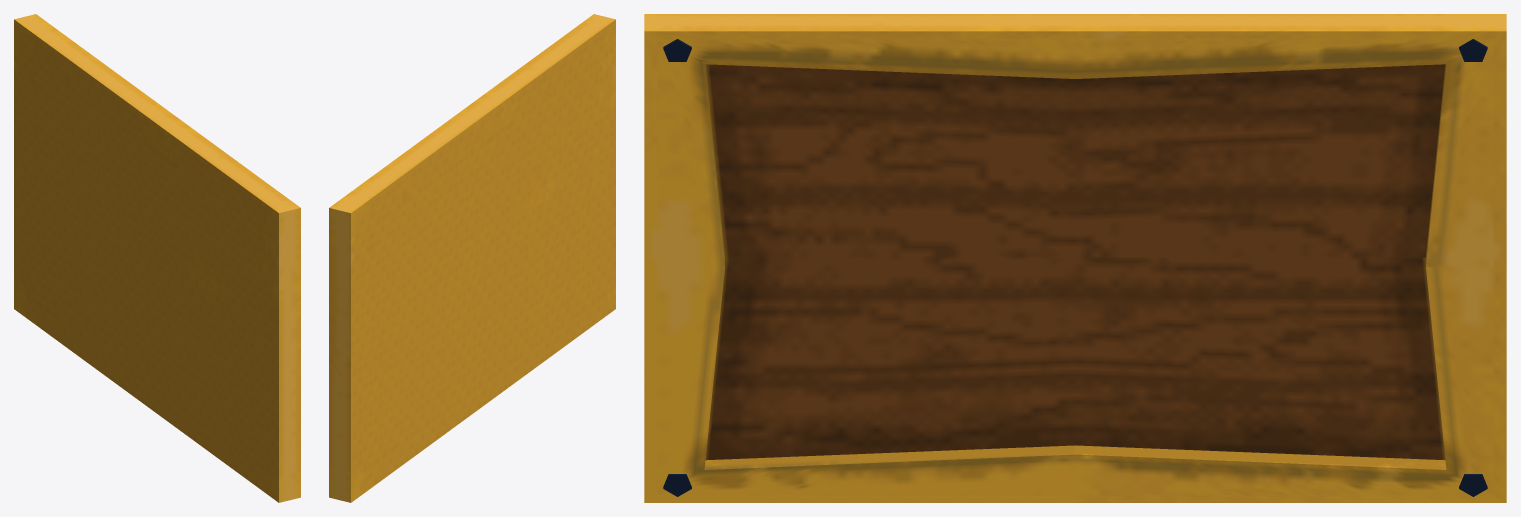
File: frame.fbx
The picture shows the model from 3 angles, left to right: view 1: azimuth 30°, elevation 25°; view 2: azimuth 150°, elevation 25°; view 3: azimuth 270°, elevation 25°; orthographic projection. The views are drawn at different scales.
Visible parts, largest first — view 1: Frame; view 2: Frame; view 3: Frame.
Part boxes in pixels (left/top/right/bottom): Frame: left=14, top=14, right=300, bottom=502; Frame: left=329, top=14, right=615, bottom=502; Frame: left=644, top=14, right=1506, bottom=502.
Bounding box in the file's own units: 1.75 × 20.35 × 33.72.
